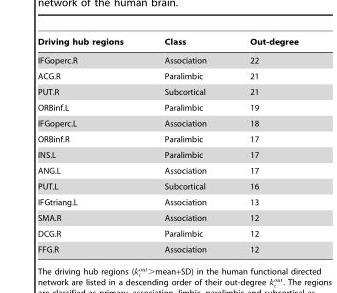table: (37, 37, 297, 253)
table column: (37, 37, 143, 253), (143, 37, 227, 253), (227, 37, 297, 253)
table column header: (37, 37, 297, 50)
table row: (37, 50, 297, 68), (37, 83, 297, 99), (37, 99, 297, 115), (37, 115, 297, 131), (37, 146, 297, 162), (37, 162, 297, 178), (37, 178, 297, 194), (37, 209, 297, 225), (37, 225, 297, 241), (37, 68, 297, 83), (37, 131, 297, 146), (37, 194, 297, 209), (37, 37, 297, 50), (37, 241, 297, 253)
